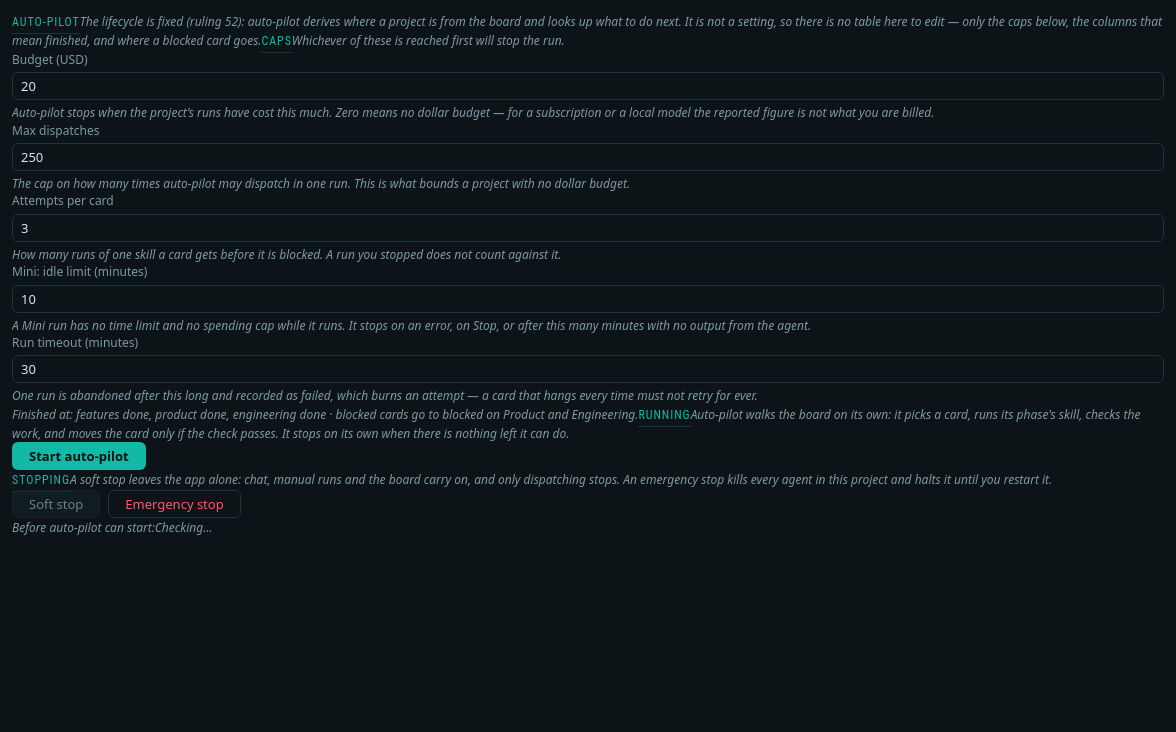
Scenario: the start control › can still be pressed when the project is not ready
The image size is (1176, 732).
Click the button "Start auto-pilot". click: (79, 456)
box: [12,442,146,470]
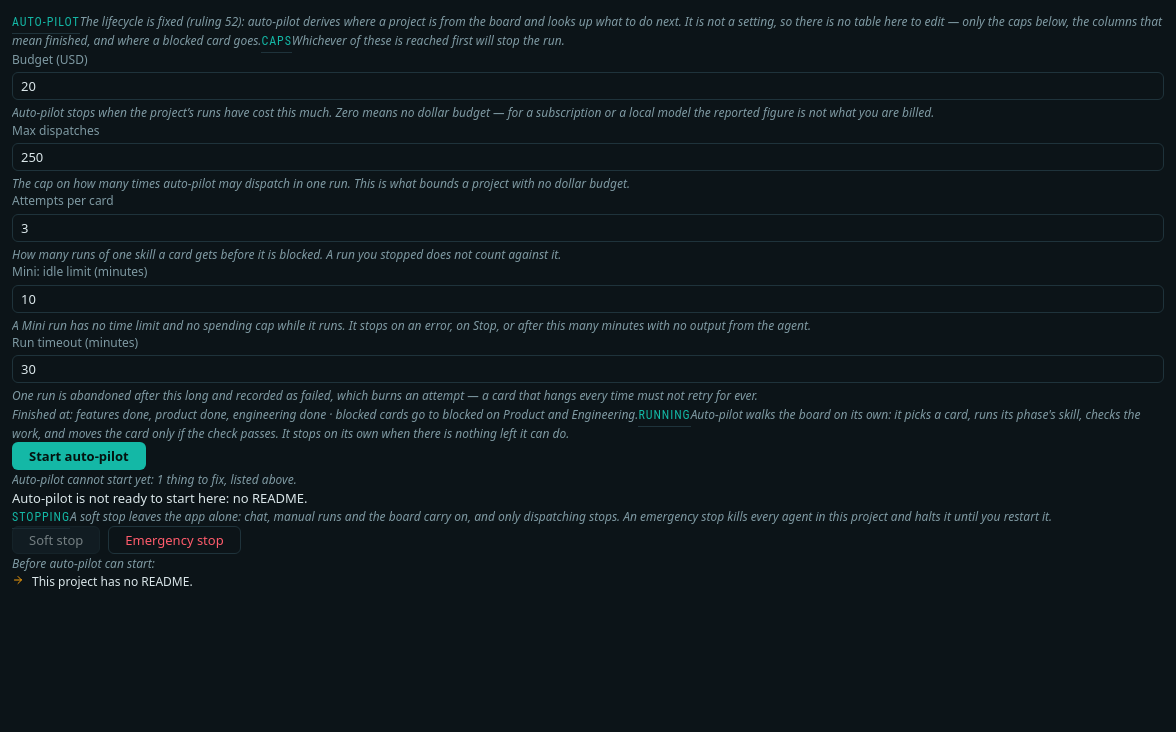
Expected: the text "Auto-pilot is not ready to start here: no README." is shown, [12,489,308,507]
